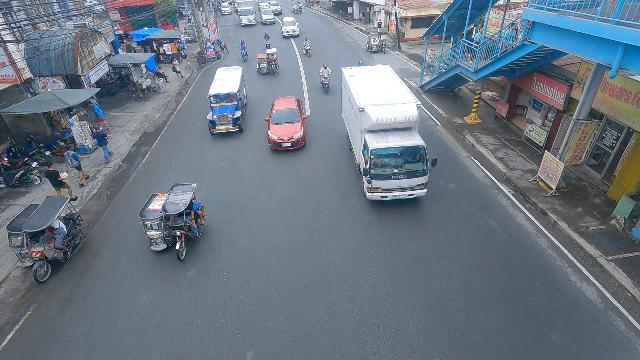car: (265, 94, 308, 153), (280, 17, 299, 37), (259, 7, 275, 25), (268, 0, 282, 15), (220, 2, 232, 15)
jeepney: (205, 65, 245, 138)
motorcycle: (318, 68, 334, 95), (302, 38, 312, 56), (240, 42, 248, 62), (263, 36, 272, 51)
truck: (337, 64, 434, 206), (234, 0, 257, 26)
